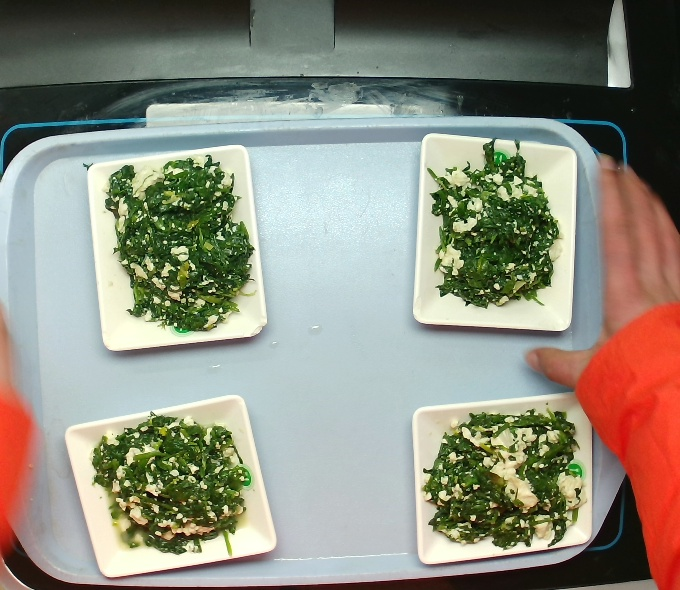wcq-QinCaiYeDouFu: (92, 153, 265, 340), (414, 136, 572, 322), (77, 408, 264, 562), (417, 396, 590, 553)
